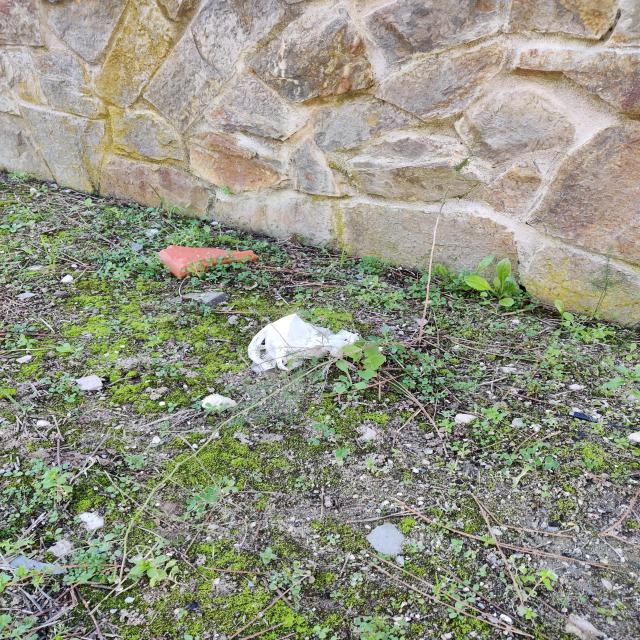litter: (249, 314, 362, 374)
